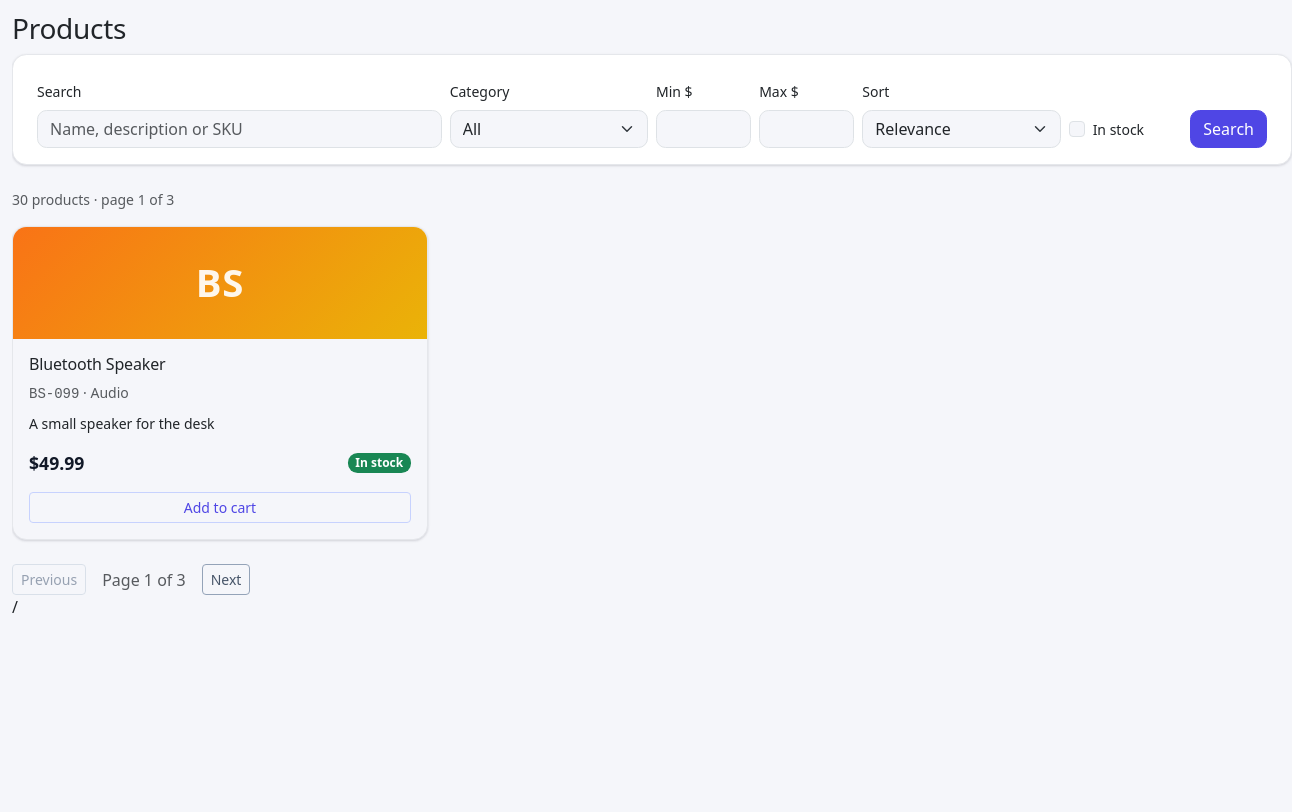
Test: ShopPage › keeps text typed but not searched when paging, and offers to clear only real filters
Type "lamp" into the field labelled "Search" at (239, 129), box x1=37 y1=110 x2=442 y2=148
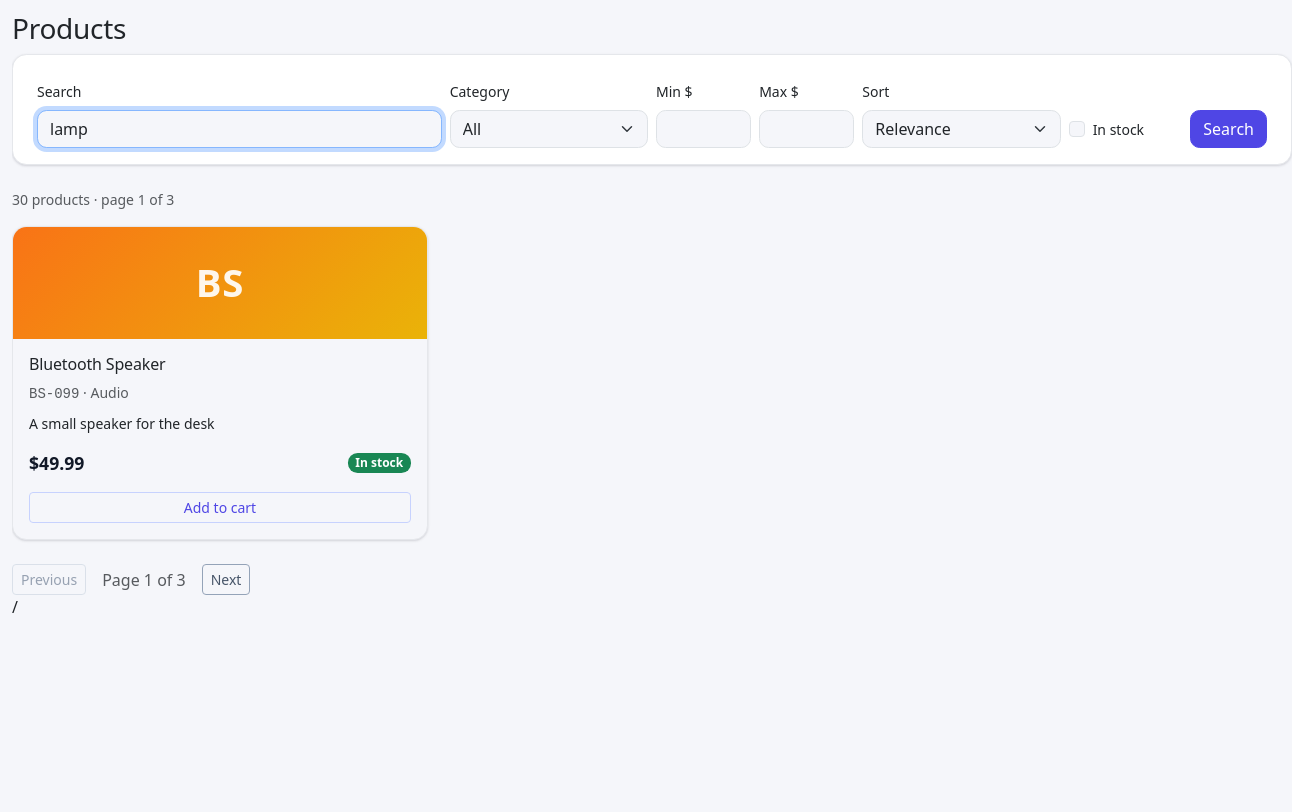
Click the button "Next" at (226, 580), box x1=202 y1=564 x2=250 y2=595
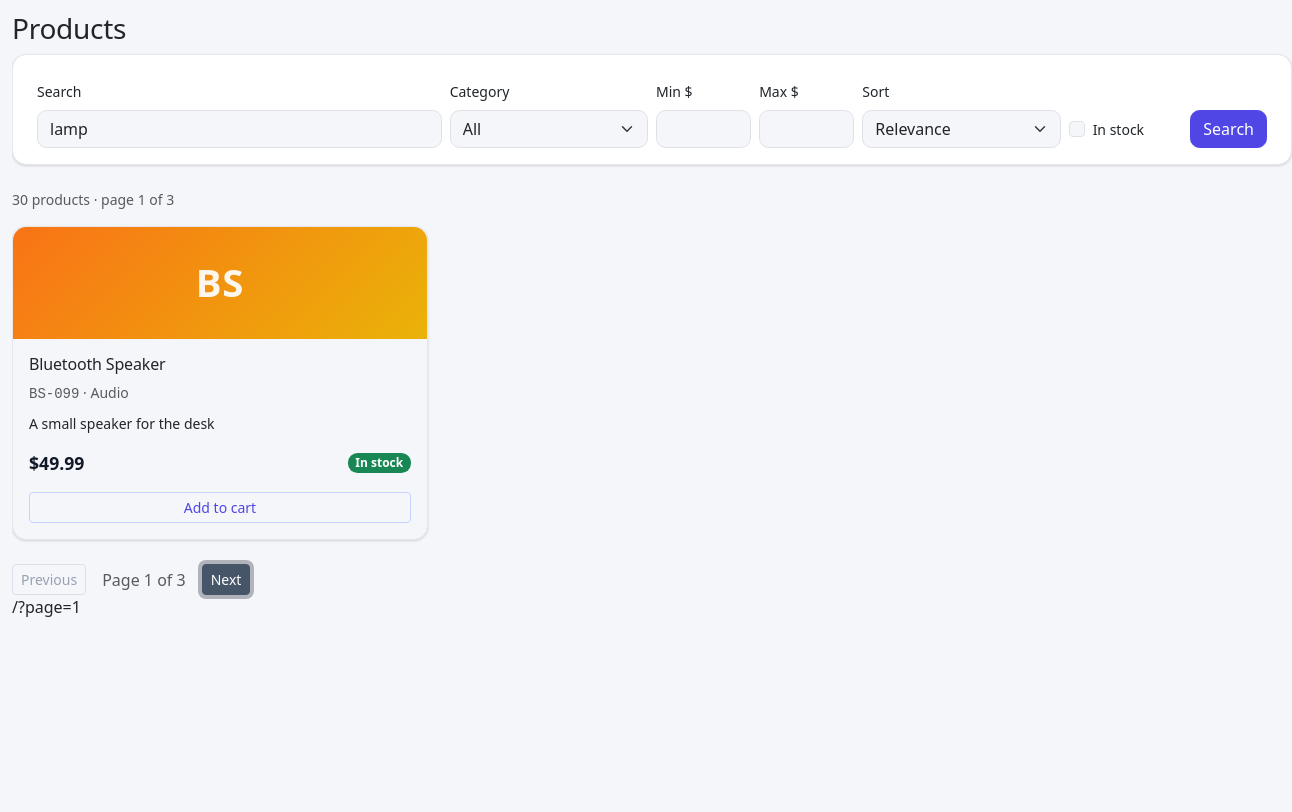
Now the text with test id "location" reads "/?page=1", box x1=18 y1=596 x2=81 y2=618
